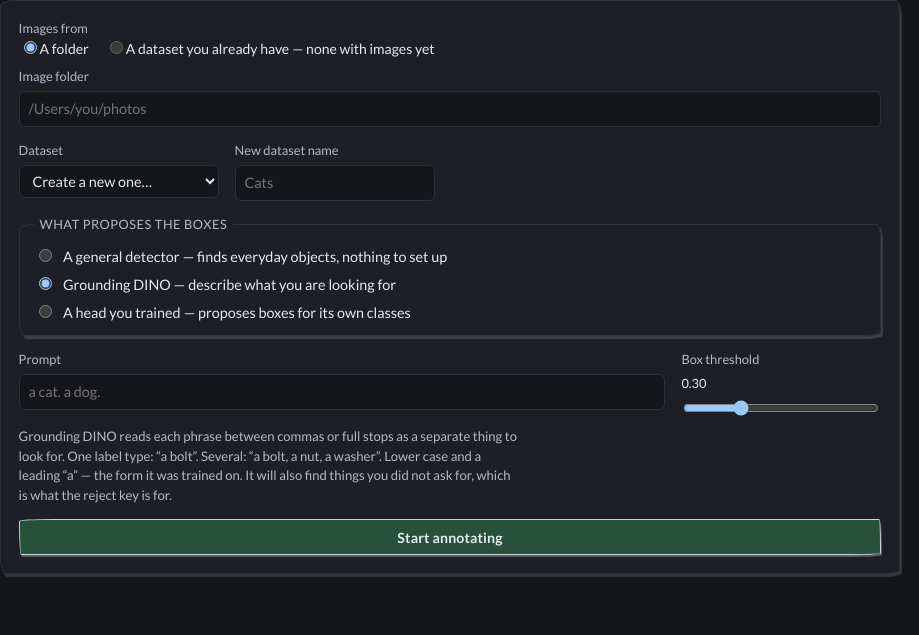
Test: choosing a mode › shows the head picker only in head mode
expect the element "Annotate with" is not shown: met
Click the radio button labelled "A head you trained — proposes boxes for its own classes" at (46, 311), box [39,305,52,318]
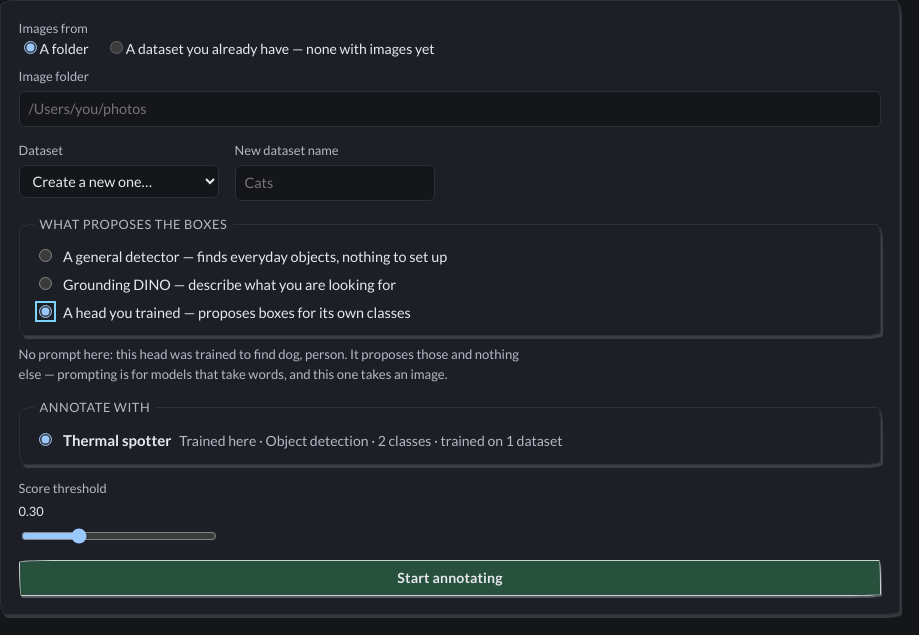
expect the element "Annotate with" is shown: met, box [19,398,881,465]
